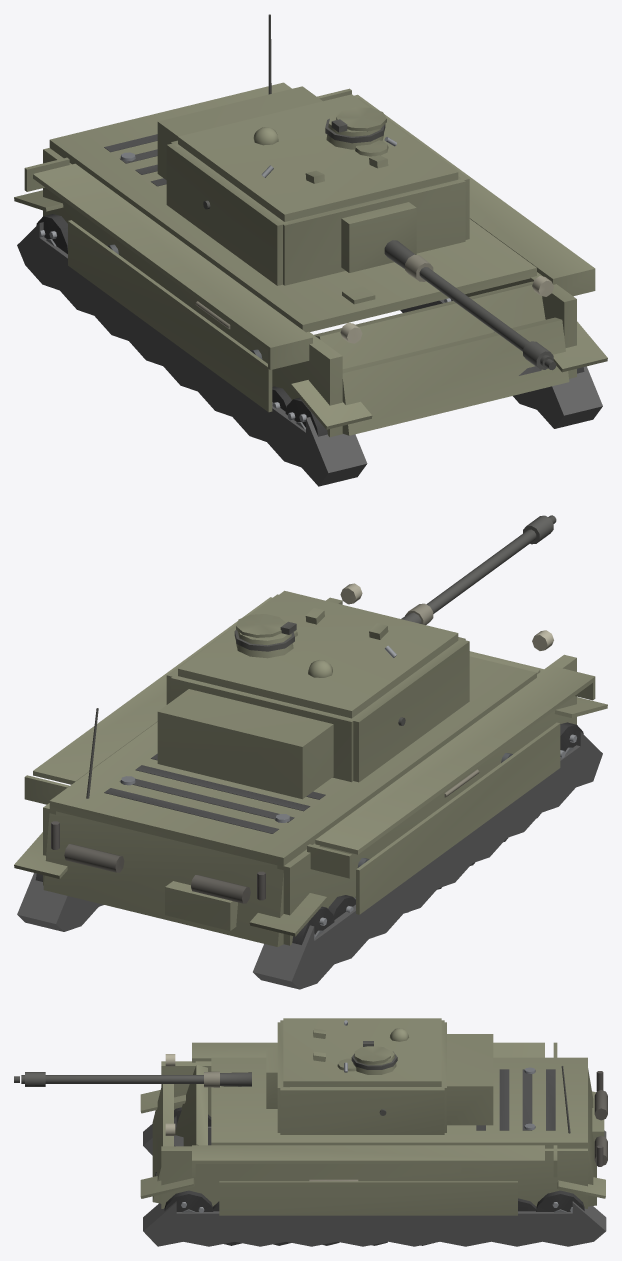
3 views of the same model, one above another, from view 1: azimuth 30°, elevation 25°; view 2: azimuth 150°, elevation 25°; view 3: azimuth 270°, elevation 25° (orthographic). The views are drawn at different scales.
Visible parts, largest first — view 1: hullSide, hullTop, turretRoof, tracks, lowerPlate, turretFront, turretSide, glacis, mantlet, barrel, wheel8, wheel7; view 2: hullSide, hullTop, turretRoof, tracks, hullRear, turretFront, turretSide, turretRear, barrel, wheel8; view 3: hullSide, tracks, hullTop, turretRoof, turretSide, turretFront, barrel, hullRear, glacis, lowerPlate, wheel16, wheel17 (+2 smaller).
Part boxes in pixels (<box>): hullSide: <box>24,88,595,437</box>; hullTop: <box>49,82,536,332</box>; turretRoof: <box>178,94,458,221</box>; tracks: <box>14,190,607,486</box>; lowerPlate: <box>342,317,569,435</box>; turretFront: <box>157,86,465,285</box>; turretSide: <box>166,98,469,285</box>; glacis: <box>314,281,545,375</box>; mantlet: <box>341,202,416,272</box>; barrel: <box>384,240,556,370</box>; wheel8: <box>36,214,67,254</box>; wheel7: <box>285,397,327,436</box>; hullSide: <box>24,583,595,945</box>; hullTop: <box>49,656,536,865</box>; turretRoof: <box>178,590,458,718</box>; tracks: <box>14,697,607,989</box>; hullRear: <box>43,708,284,946</box>; turretFront: <box>157,637,465,799</box>; turretSide: <box>166,594,469,782</box>; turretRear: <box>170,676,353,782</box>; barrel: <box>401,515,556,624</box>; wheel8: <box>292,906,334,944</box>; hullSide: <box>161,1042,587,1215</box>; tracks: <box>140,1090,606,1246</box>; hullTop: <box>211,1057,587,1148</box>; turretRoof: <box>283,1018,441,1086</box>; turretSide: <box>280,1020,444,1134</box>; turretFront: <box>277,1022,493,1132</box>; barrel: <box>14,1071,251,1087</box>; hullRear: <box>561,1066,607,1206</box>; glacis: <box>155,1064,241,1176</box>; lowerPlate: <box>152,1084,173,1203</box>; wheel16: <box>164,1190,213,1212</box>; wheel17: <box>536,1190,584,1212</box>.
Bounding box in the file's own units: 4.58 × 2.99 × 9.75.
